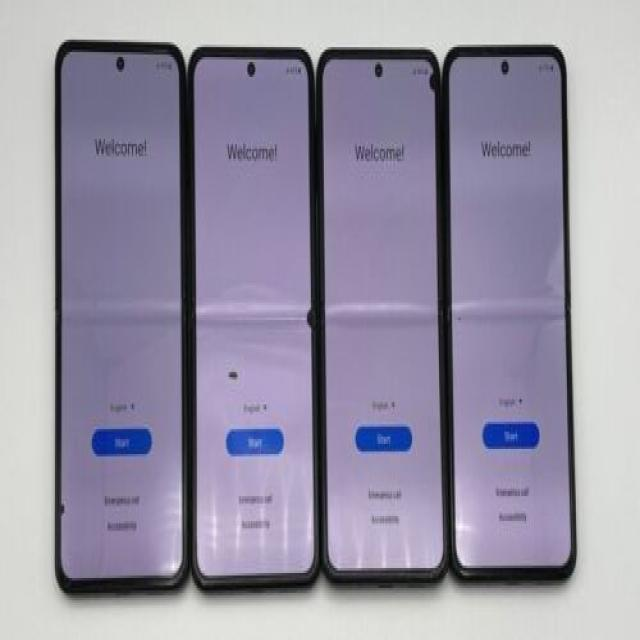dead pixel: (294, 294, 322, 338), (422, 56, 444, 101), (47, 495, 78, 526), (226, 351, 243, 396)
